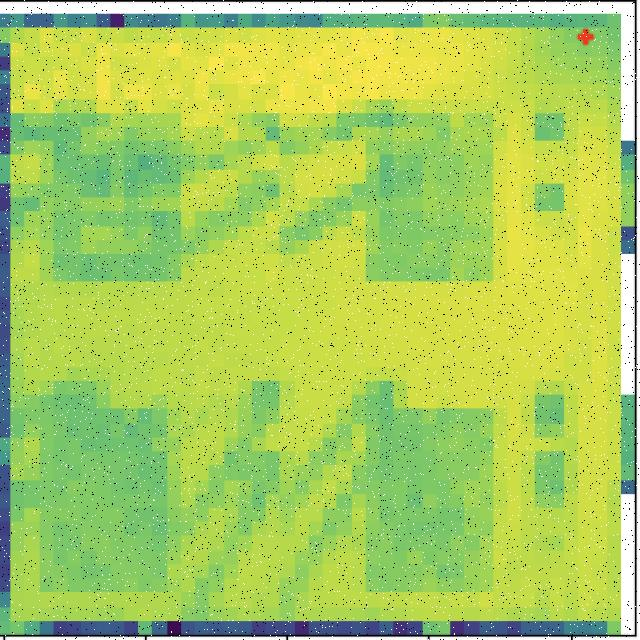Concrete: (43, 399, 166, 594)
Glass: (366, 101, 496, 282)
Metal: (54, 99, 182, 281)
Wood: (365, 406, 498, 592)
